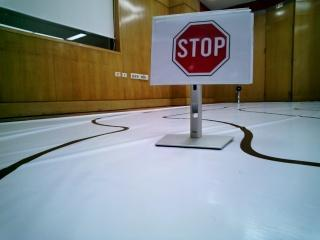stop: (165, 17, 241, 84)
